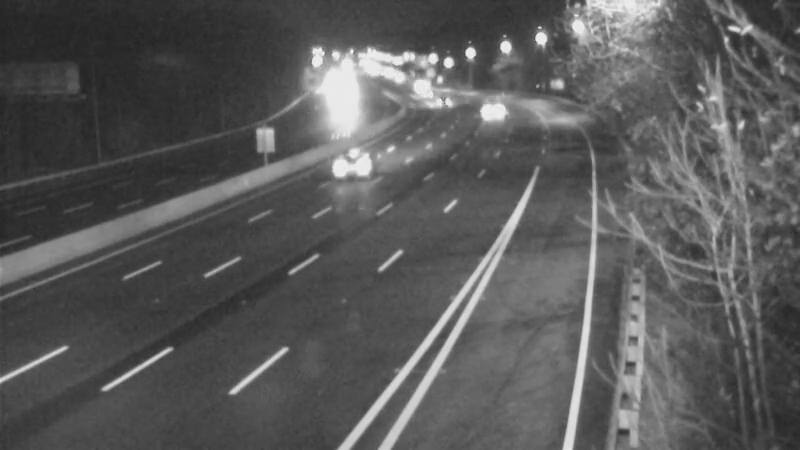vehicle: (317, 124, 397, 204), (396, 62, 446, 112), (403, 71, 453, 121), (420, 71, 470, 121), (462, 86, 512, 136), (311, 78, 361, 128)
